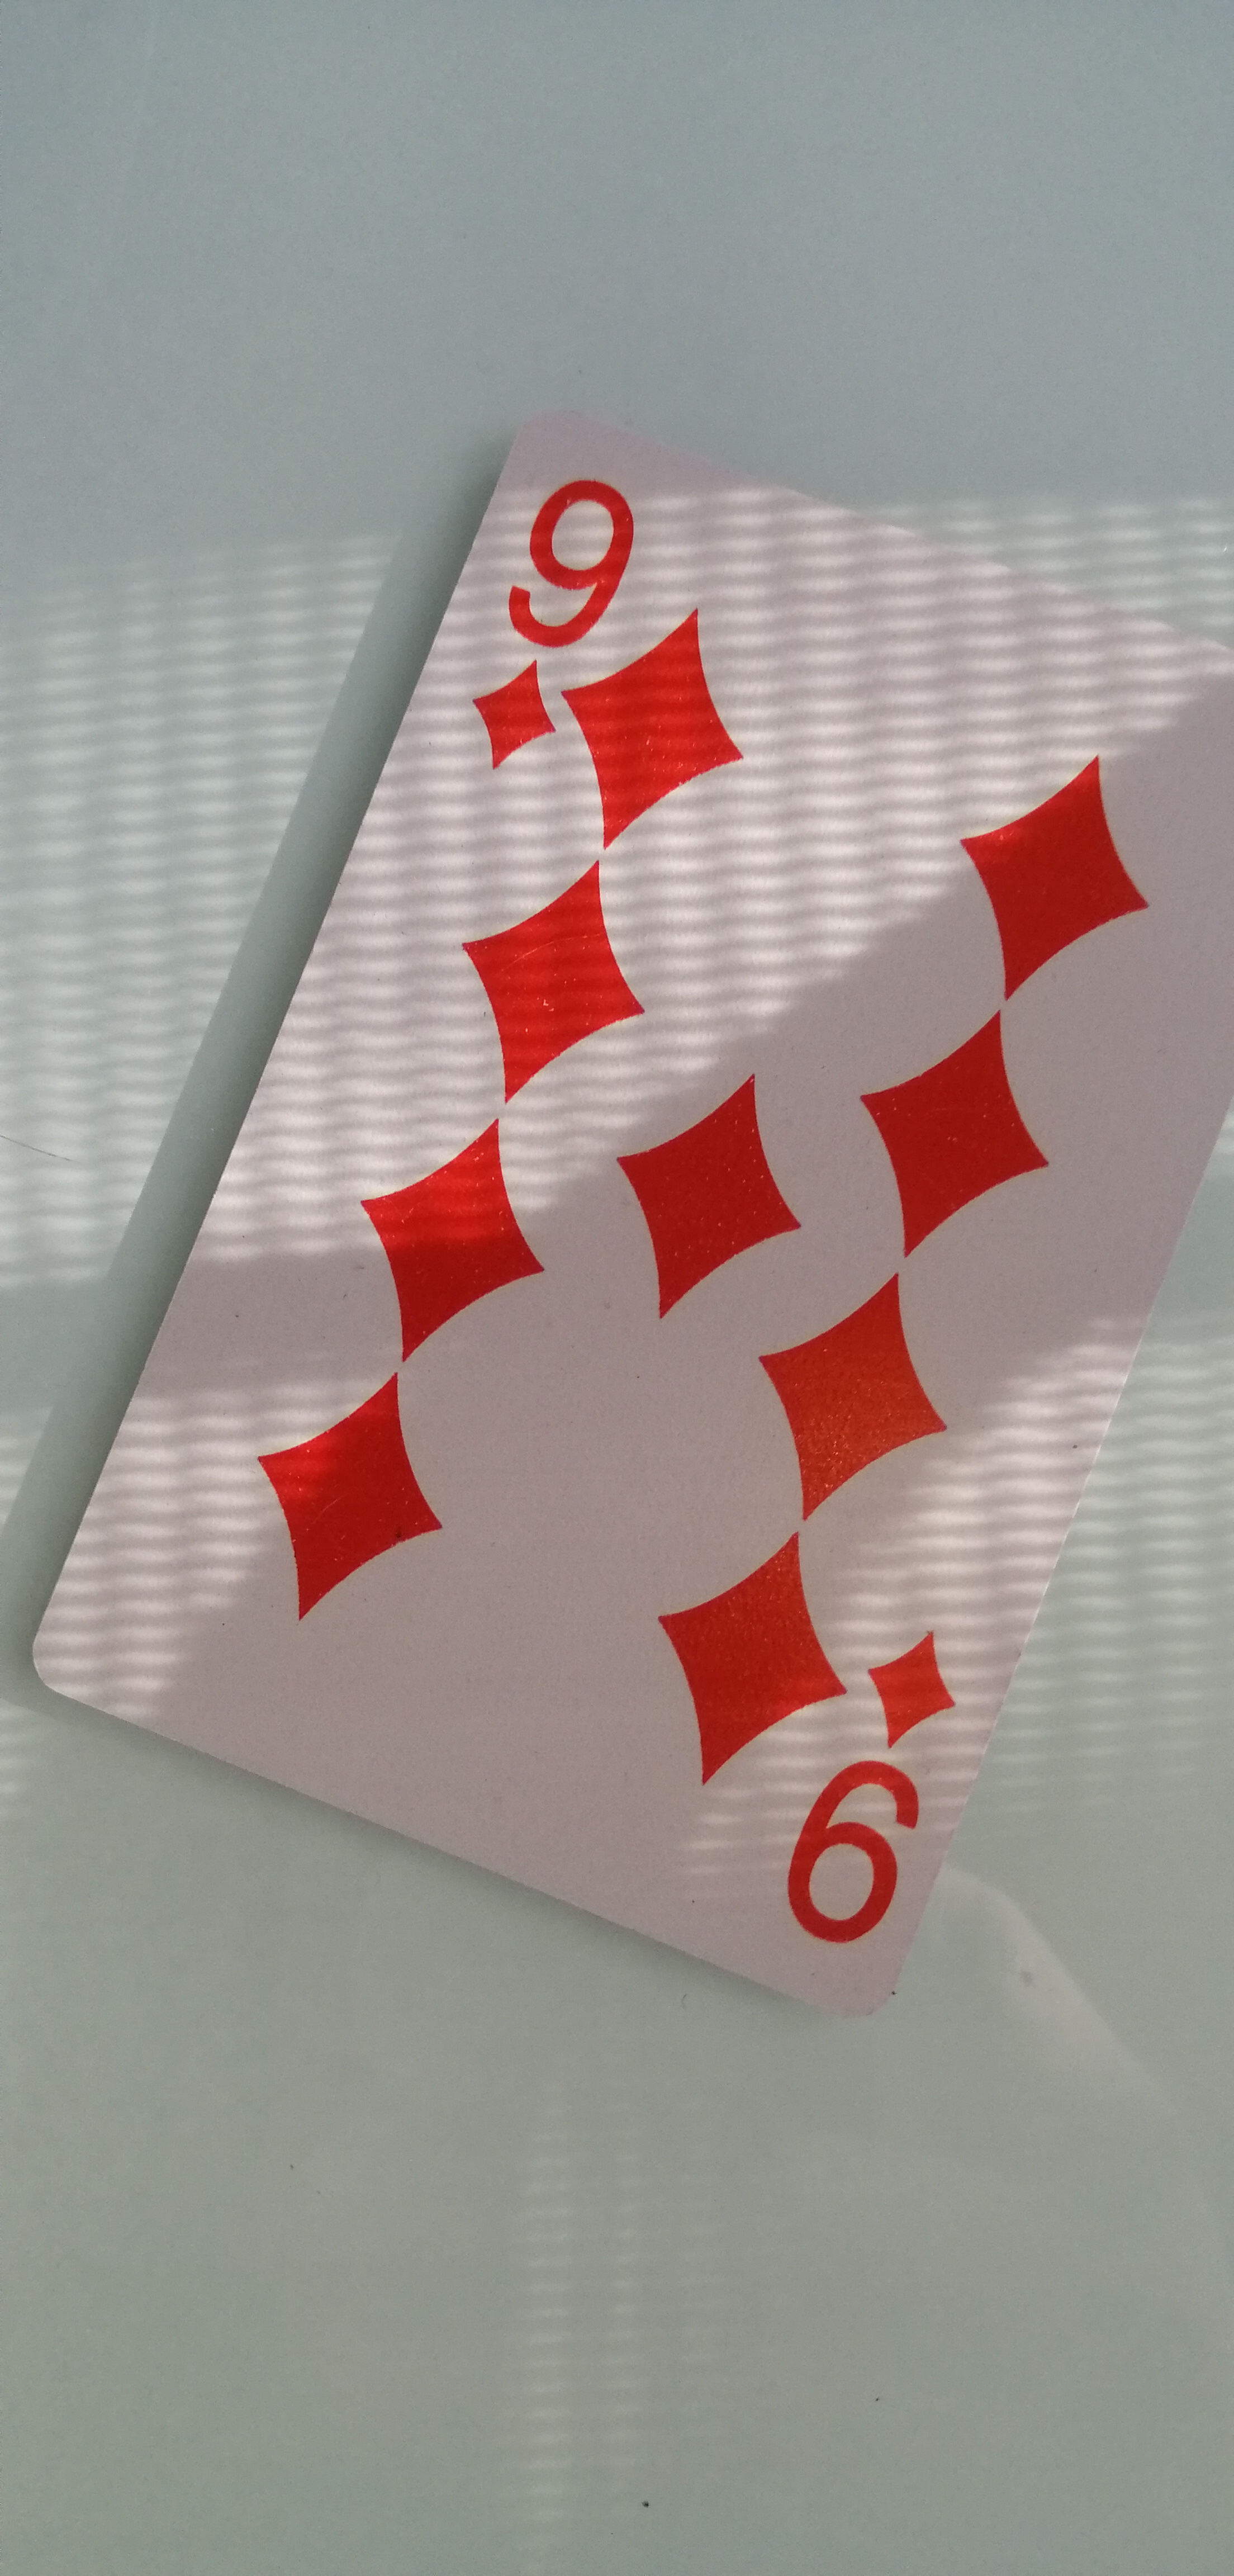nine: (8, 378, 1234, 2081)
